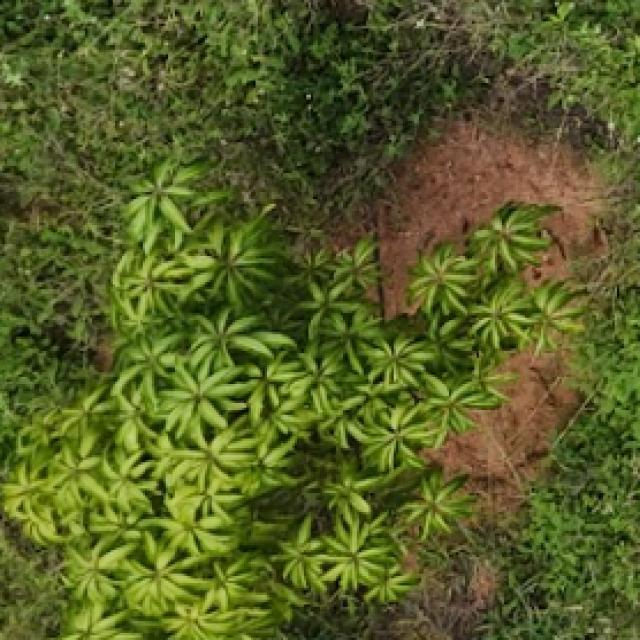mangoTree: (0, 149, 587, 640)
